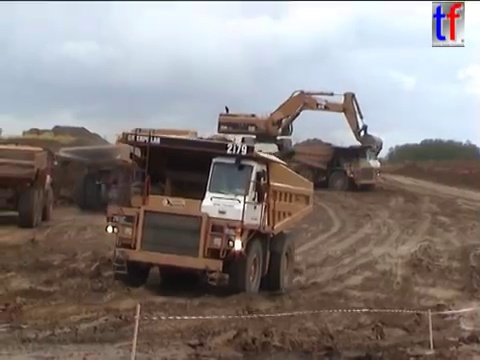excavator: (215, 87, 385, 164)
truck: (94, 127, 315, 299), (54, 126, 199, 211), (281, 141, 382, 193), (1, 141, 57, 230), (151, 132, 239, 161)
